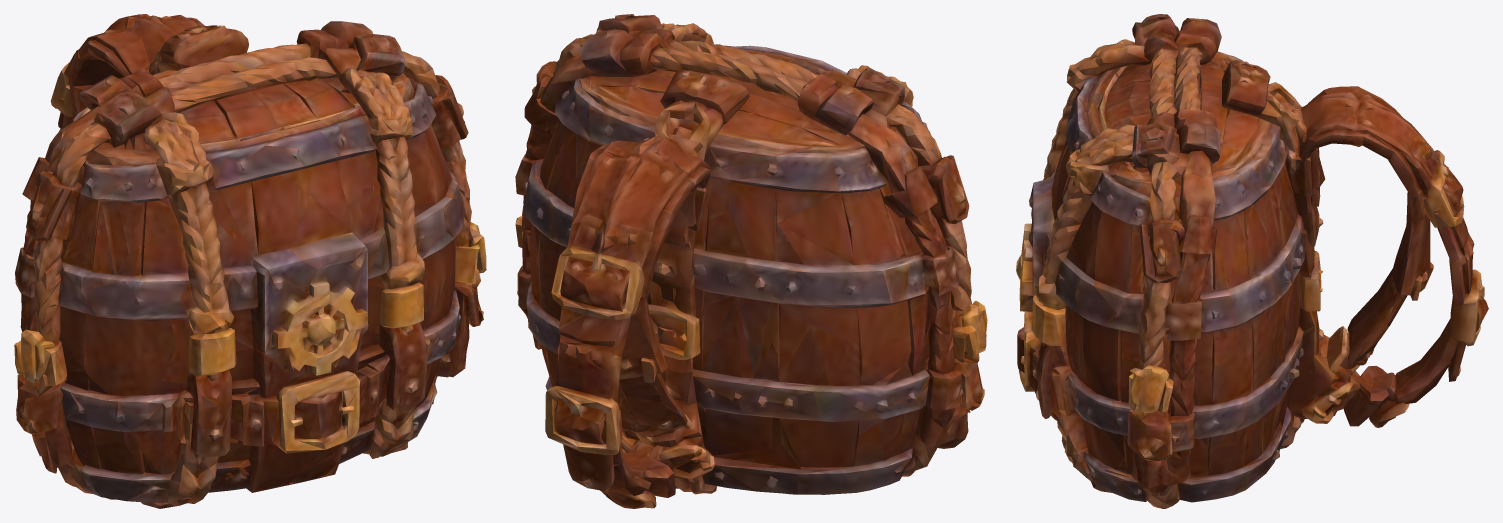
The model's file is barrelback-courier-barrel-pack-oct25.glb.
3 renders of one model, left to right at view 1: azimuth 30°, elevation 25°; view 2: azimuth 150°, elevation 25°; view 3: azimuth 270°, elevation 25°, orthographic. The views are drawn at different scales.
Bounding box in the file's own units: 1.9 × 1.61 × 1.81.
1 material, 1 textured.
